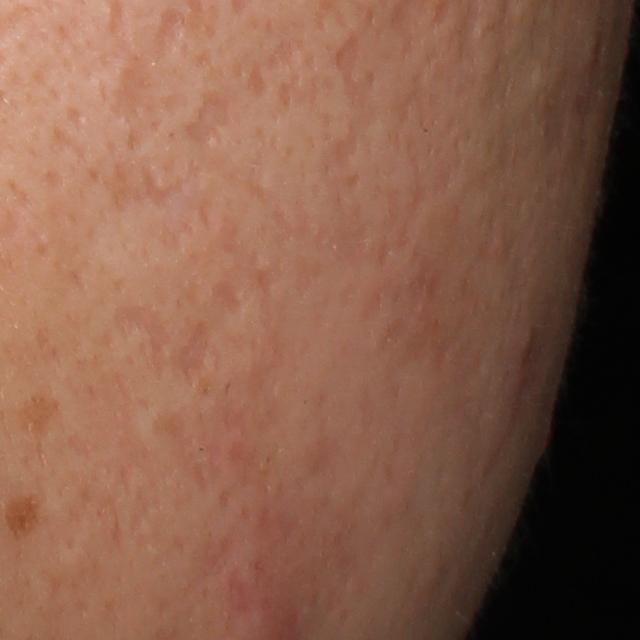atrophic_scar: (139, 400, 221, 502), (107, 297, 183, 386), (170, 312, 222, 397), (261, 36, 306, 109), (184, 95, 231, 149), (138, 160, 185, 213), (40, 118, 98, 160), (116, 67, 153, 125), (151, 9, 183, 63), (206, 277, 249, 317), (334, 29, 363, 88), (247, 57, 268, 97)
